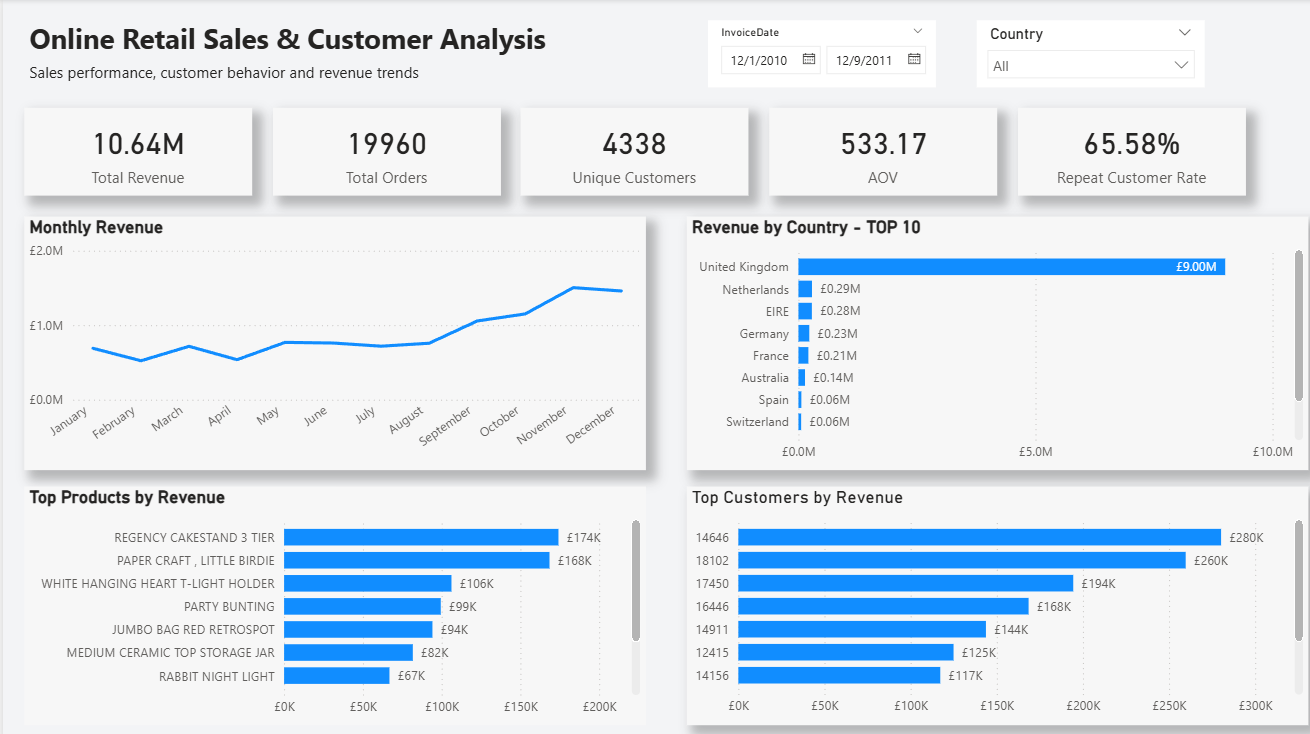

The page's visual inventory and layout, read from the dashboard file:
{"tool":"powerbi","page":{"name":"Page 1","canvas":[1280,720],"ordinal":0},"visuals":[{"type":"card","fields":{"Values":["final_sales_powerbi.Total Revenue"]},"box":[20,105,220,85],"z":0},{"type":"card","fields":{"Values":["final_sales_powerbi.Total Orders"]},"box":[260,105,220,85],"z":1000},{"type":"card","fields":{"Values":["final_sales_powerbi.Unique Customers"]},"box":[500,105,220,85],"z":2000},{"type":"card","fields":{"Values":["final_sales_powerbi.AOV"]},"box":[740,105,220,85],"z":3000},{"type":"card","fields":{"Values":["final_sales_powerbi.Repeat Customer Rate"]},"box":[980,105,220,85],"z":4000},{"type":"lineChart","title":"Monthly Revenue","fields":{"Category":["final_sales_powerbi.InvoiceDate.Variation.Date Hierarchy.Year","final_sales_powerbi.InvoiceDate.Variation.Date Hierarchy.Month"],"Y":["Sum(final_sales_powerbi.Revenue)"]},"box":[20,210,600,245],"z":5000},{"type":"clusteredBarChart","title":"Revenue by Country - TOP 10","fields":{"Category":["final_sales_powerbi.Country"],"Y":["Sum(final_sales_powerbi.Revenue)"]},"box":[660,210,600,245],"z":6000},{"type":"clusteredBarChart","title":"Top Products by Revenue","fields":{"Category":["final_sales_powerbi.Description"],"Y":["Sum(final_sales_powerbi.Revenue)"]},"box":[20.5,470.5,599.6,230.4],"z":7000},{"type":"clusteredBarChart","title":"Top Customers by Revenue","fields":{"Category":["final_sales_powerbi.CustomerID"],"Y":["Sum(final_sales_powerbi.Revenue)"]},"box":[660,470,600,230],"z":8000},{"type":"textbox","box":[20,15,600,45],"z":9000},{"type":"textbox","box":[20,55,600,30],"z":10000},{"type":"slicer","fields":{"Values":["final_sales_powerbi.InvoiceDate"]},"box":[680,20,220,65],"z":11000},{"type":"slicer","fields":{"Values":["final_sales_powerbi.Country"]},"box":[940,20,220,65],"z":12000}]}

Visuals, with their boxes in screenshot pixels (x1, y1, x2, y2), scaled from the page's 1280x720 canvas onto the 1310x734 screenshot:
card - final_sales_powerbi.Total Revenue: x1=20, y1=107, x2=246, y2=194
card - final_sales_powerbi.Total Orders: x1=266, y1=107, x2=491, y2=194
card - final_sales_powerbi.Unique Customers: x1=512, y1=107, x2=737, y2=194
card - final_sales_powerbi.AOV: x1=757, y1=107, x2=982, y2=194
card - final_sales_powerbi.Repeat Customer Rate: x1=1003, y1=107, x2=1228, y2=194
"Monthly Revenue" lineChart: x1=20, y1=214, x2=635, y2=464
"Revenue by Country - TOP 10" clusteredBarChart: x1=675, y1=214, x2=1290, y2=464
"Top Products by Revenue" clusteredBarChart: x1=21, y1=480, x2=635, y2=715
"Top Customers by Revenue" clusteredBarChart: x1=675, y1=479, x2=1290, y2=714
textbox: x1=20, y1=15, x2=635, y2=61
textbox: x1=20, y1=56, x2=635, y2=87
slicer - final_sales_powerbi.InvoiceDate: x1=696, y1=20, x2=921, y2=87
slicer - final_sales_powerbi.Country: x1=962, y1=20, x2=1187, y2=87
